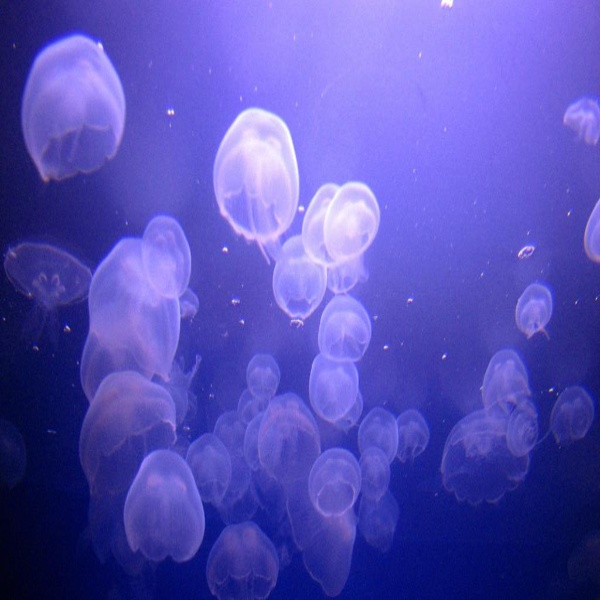Jellyfish: (78, 180, 428, 599), (21, 34, 123, 185), (203, 107, 299, 256), (1, 242, 91, 344), (439, 409, 529, 501), (480, 348, 530, 422), (550, 387, 594, 450), (505, 403, 543, 459), (516, 284, 553, 341), (560, 96, 599, 150), (582, 202, 599, 270)
